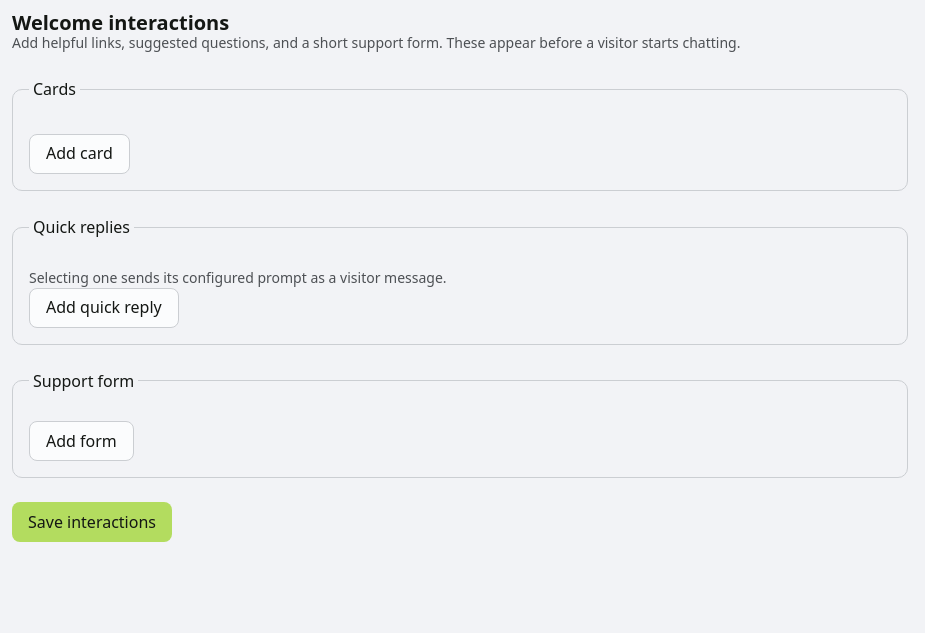
BotInteractionsForm › lets admins configure a fixed quick reply and saves its exact prompt
Click the button "Add quick reply" at (104, 308), box x1=29 y1=288 x2=179 y2=328
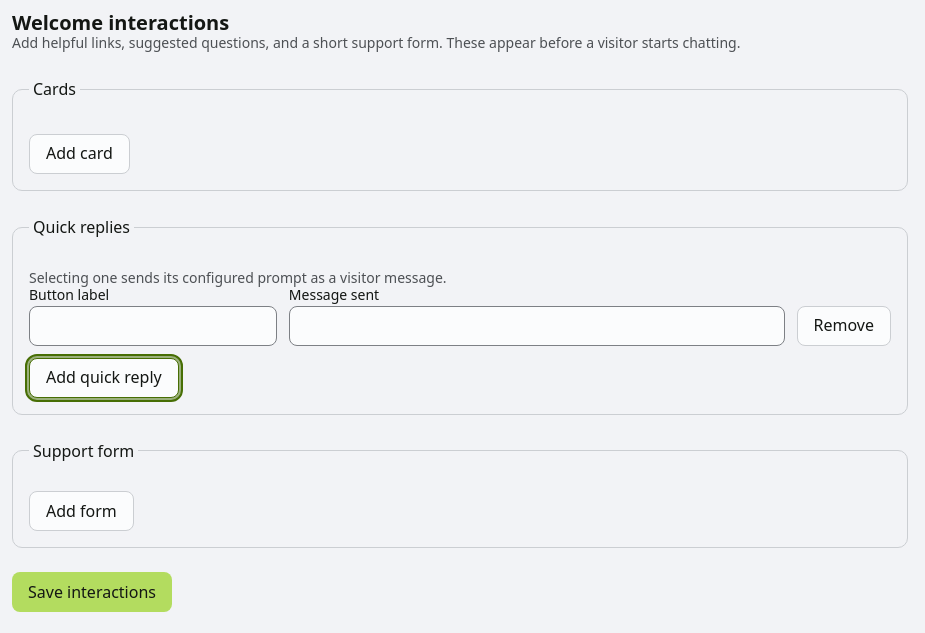
Type "Track an order" into the field labelled "Button label" at (153, 326), box x1=29 y1=306 x2=277 y2=346
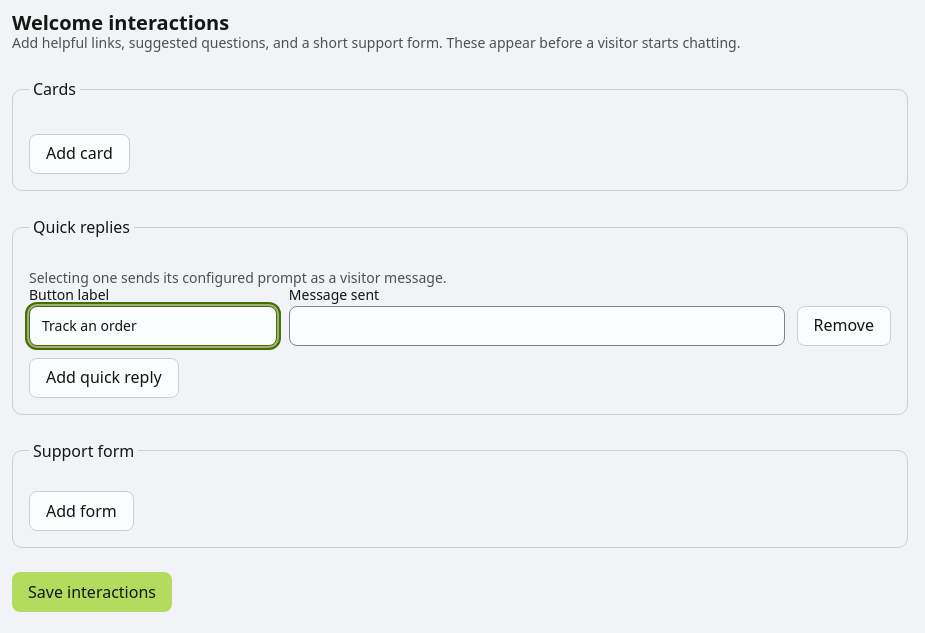
Type "Where is my order?" into the field labelled "Message sent" at (537, 326), box x1=289 y1=306 x2=784 y2=346
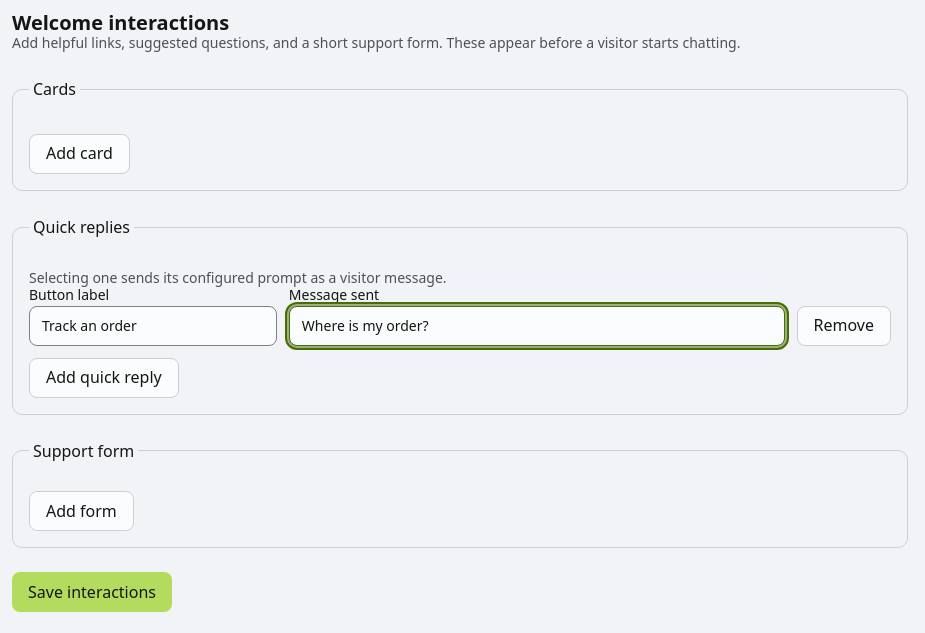
Click the button "Save interactions" at (92, 592), box x1=12 y1=572 x2=172 y2=612
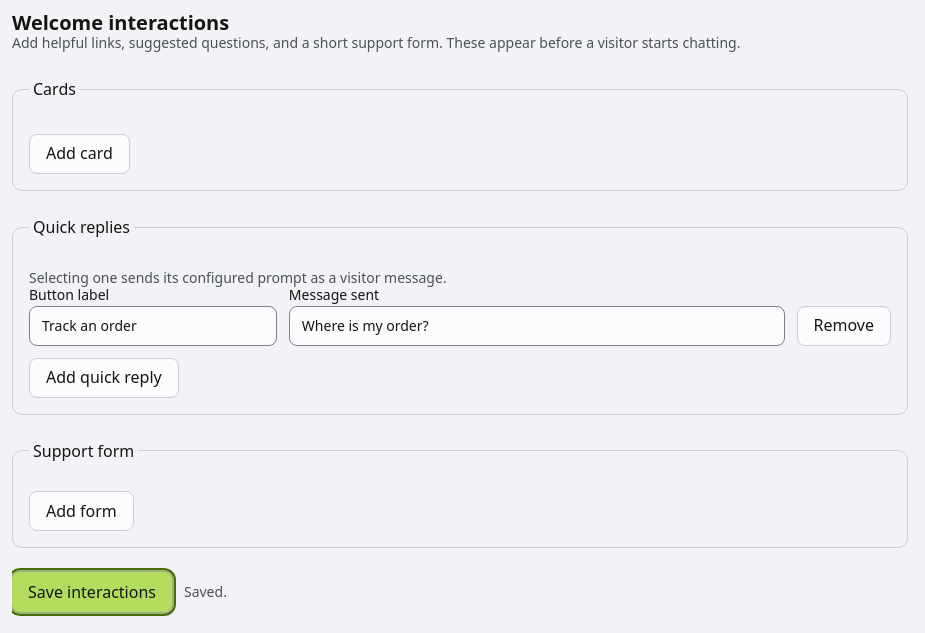
expect the text "Saved." is shown: met, box x1=184 y1=582 x2=227 y2=602
